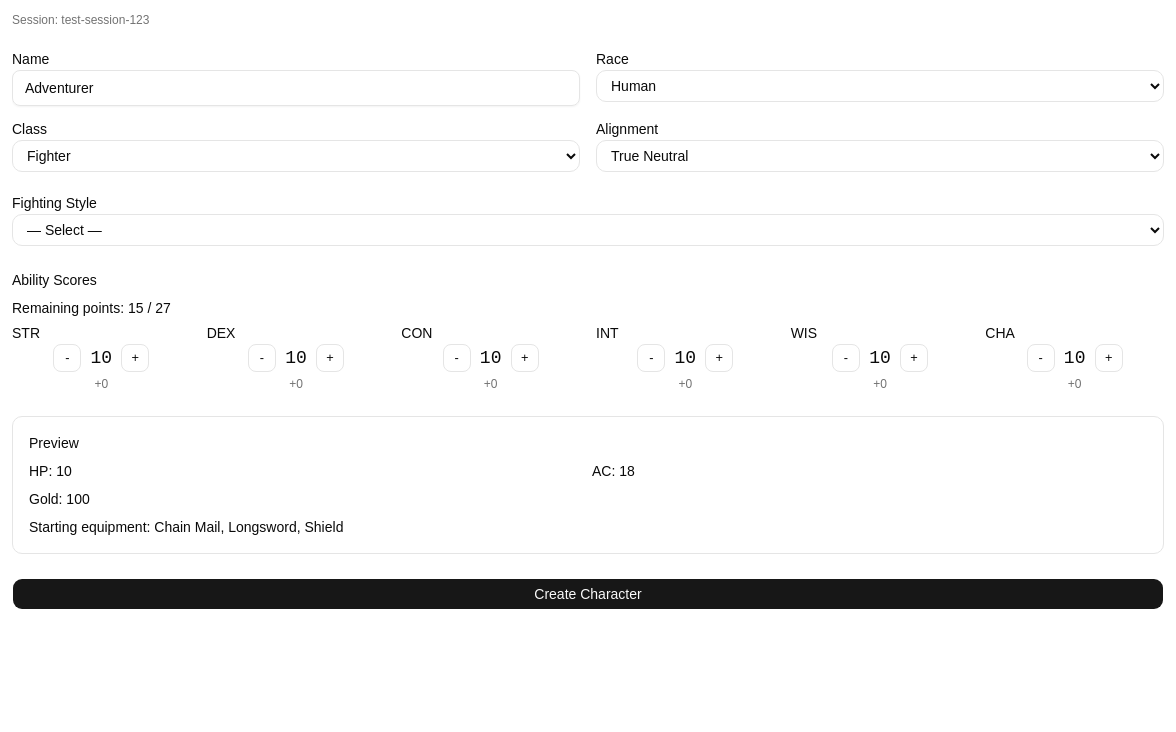
Test case: CharacterForm — Point Buy › increments score and decreases remaining points
Click the button with test id "str-plus": point(135, 358) [121,344,149,372]
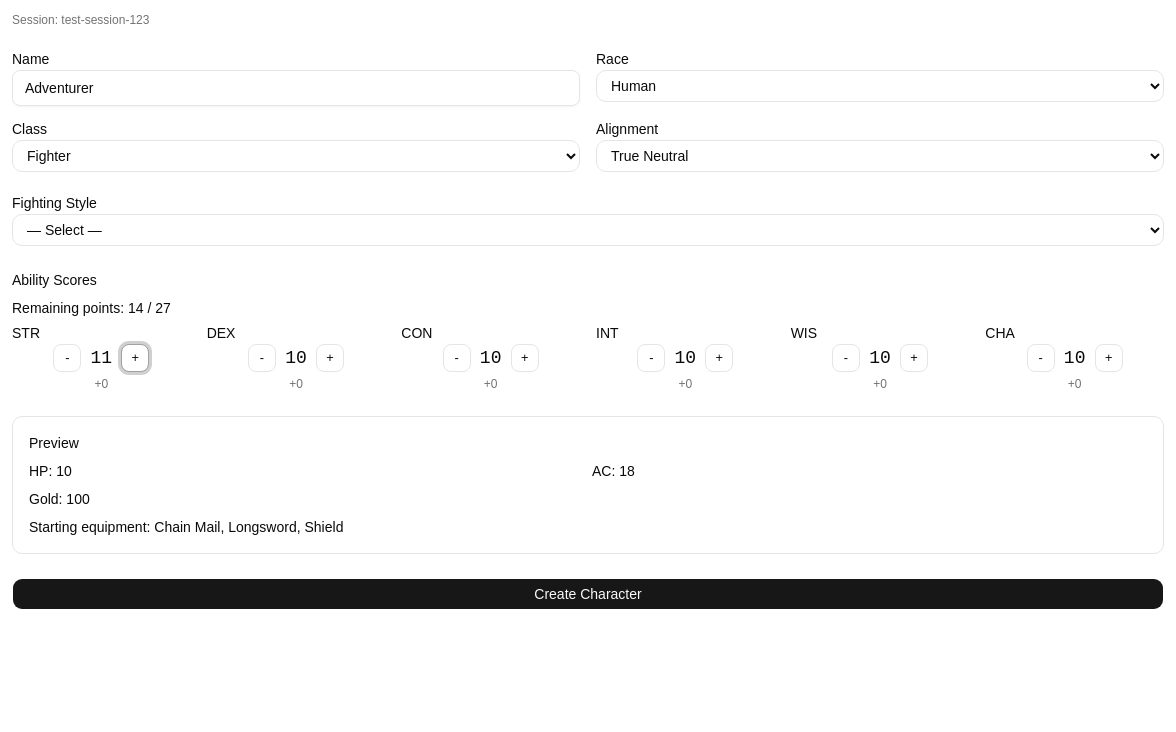
Expected: the text with test id "str-score" reads "11", [90,348,112,368]
Expected: the text with test id "remaining-points" reads "14", [128,300,144,316]
